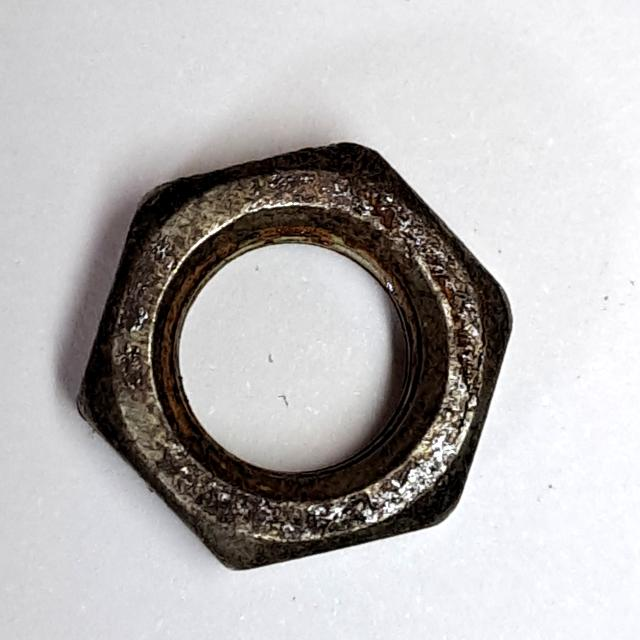Rust: (64, 132, 521, 584)
